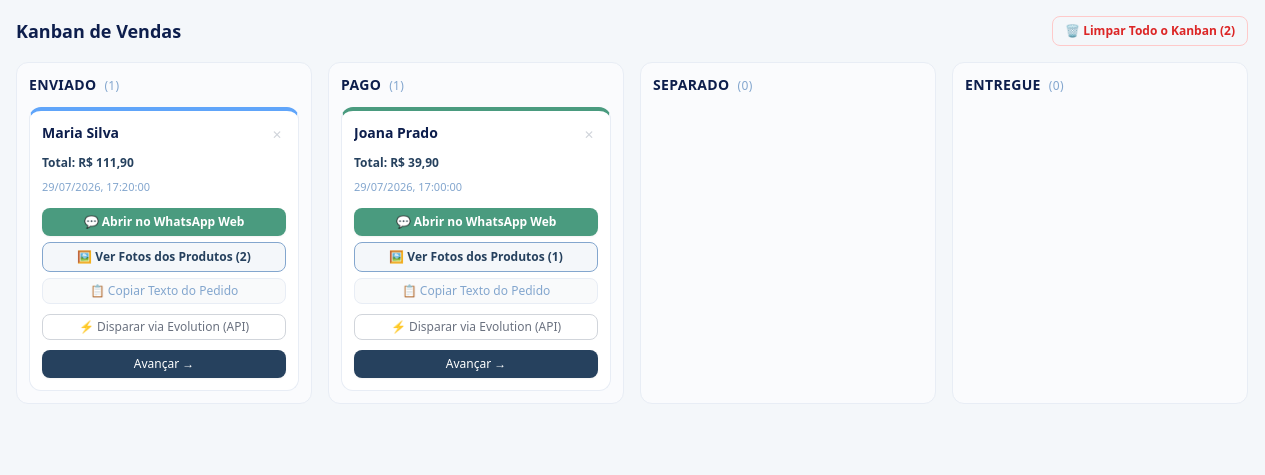
Test: KanbanPage — avançar › ERP fora ao confirmar: mostra erro e NÃO move
This screenshot has width=1265, height=475.
Click the button "Avançar →" below "29/07/2026, 17:20:00". click: click(164, 364)
box: [42,350,286,378]
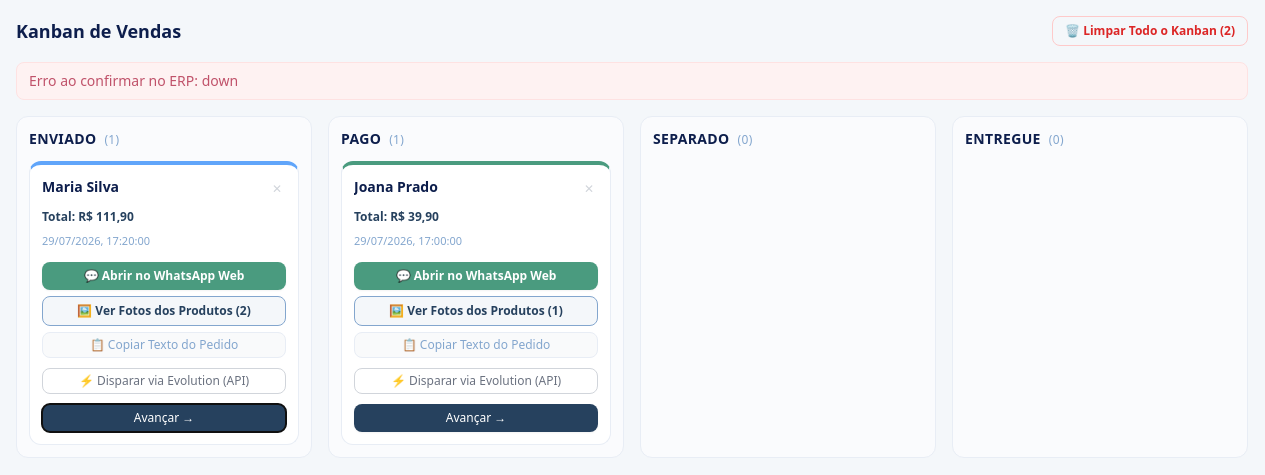
Expected: the text "Maria Silva" is shown, [42,177,119,196]
Expected: the text "Erro ao confirmar no ERP: down" is shown, [16,62,1248,100]
